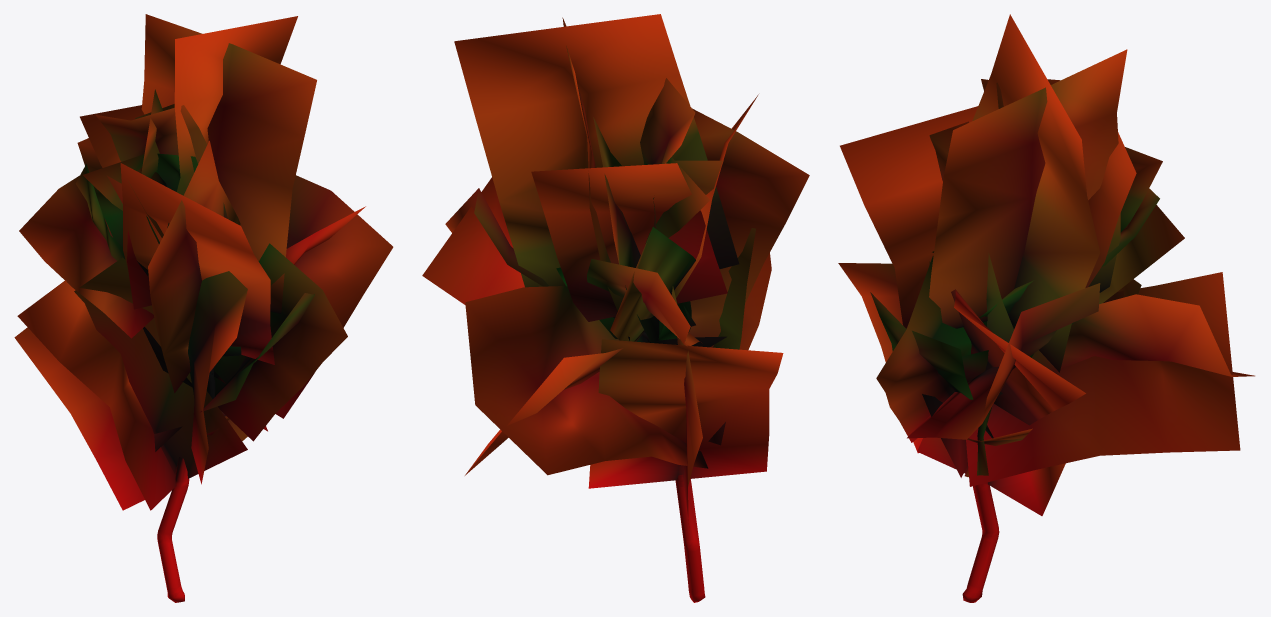
The model's file is GenericTreeBushD_Summer.fbx.
3 renders of one model, left to right at view 1: azimuth 30°, elevation 25°; view 2: azimuth 150°, elevation 25°; view 3: azimuth 270°, elevation 25°, orthographic. The views are drawn at different scales.
Visible parts, largest first — view 1: GTBDS_Leaves_LOD, GTBDS_Branch_LOD; view 2: GTBDS_Leaves_LOD, GTBDS_Branch_LOD; view 3: GTBDS_Leaves_LOD, GTBDS_Branch_LOD.
Boxes of the visible parts, x1,y1,x2,y2 form: GTBDS_Leaves_LOD: [14, 14, 393, 510]; GTBDS_Branch_LOD: [157, 369, 215, 602]; GTBDS_Leaves_LOD: [422, 14, 809, 544]; GTBDS_Branch_LOD: [675, 474, 705, 602]; GTBDS_Leaves_LOD: [838, 14, 1254, 515]; GTBDS_Branch_LOD: [962, 313, 1009, 602].
Bounding box in the file's own units: 3.54 × 5.39 × 3.43.
